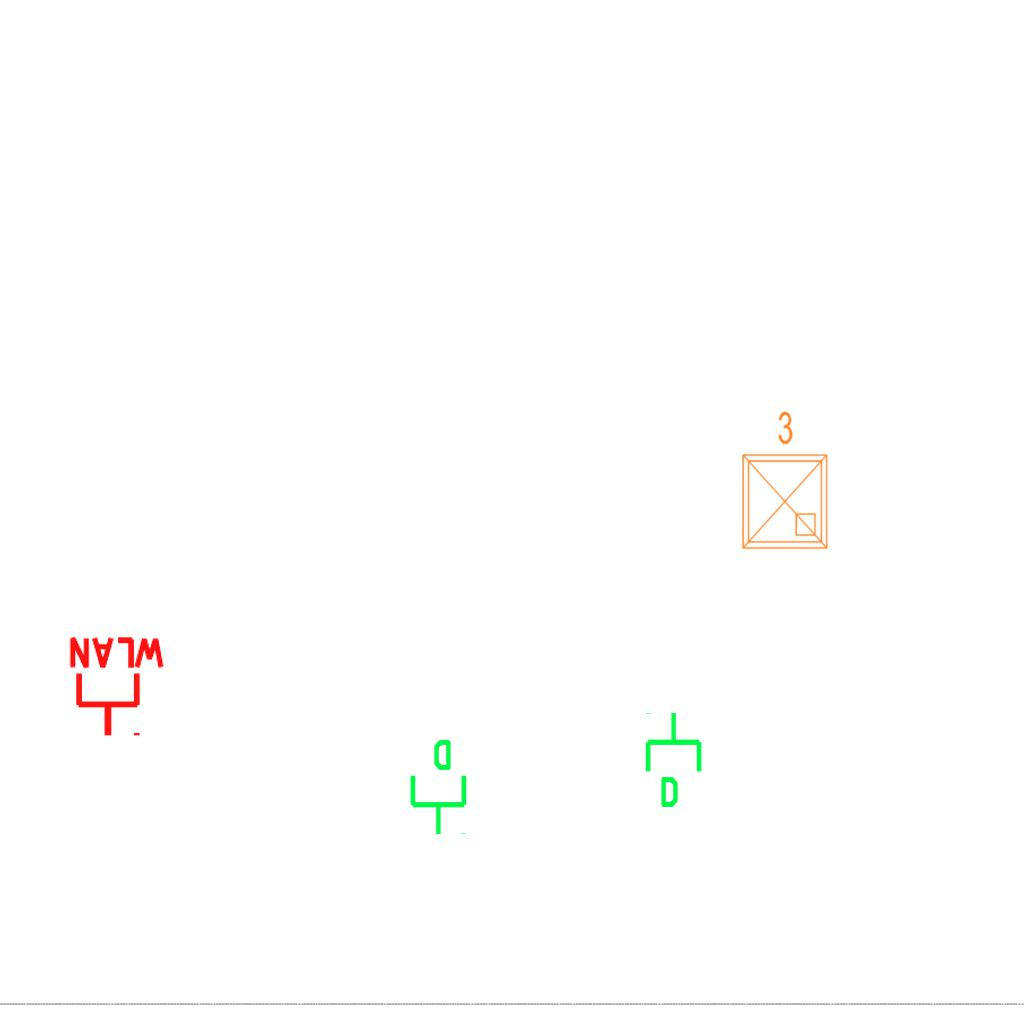Datenanschluss_einfach: (402, 737, 471, 837), (641, 710, 710, 810)
Einbaudownlights_LED_Konferenzraeume: (731, 406, 835, 556)
WLAN: (65, 635, 169, 740)
